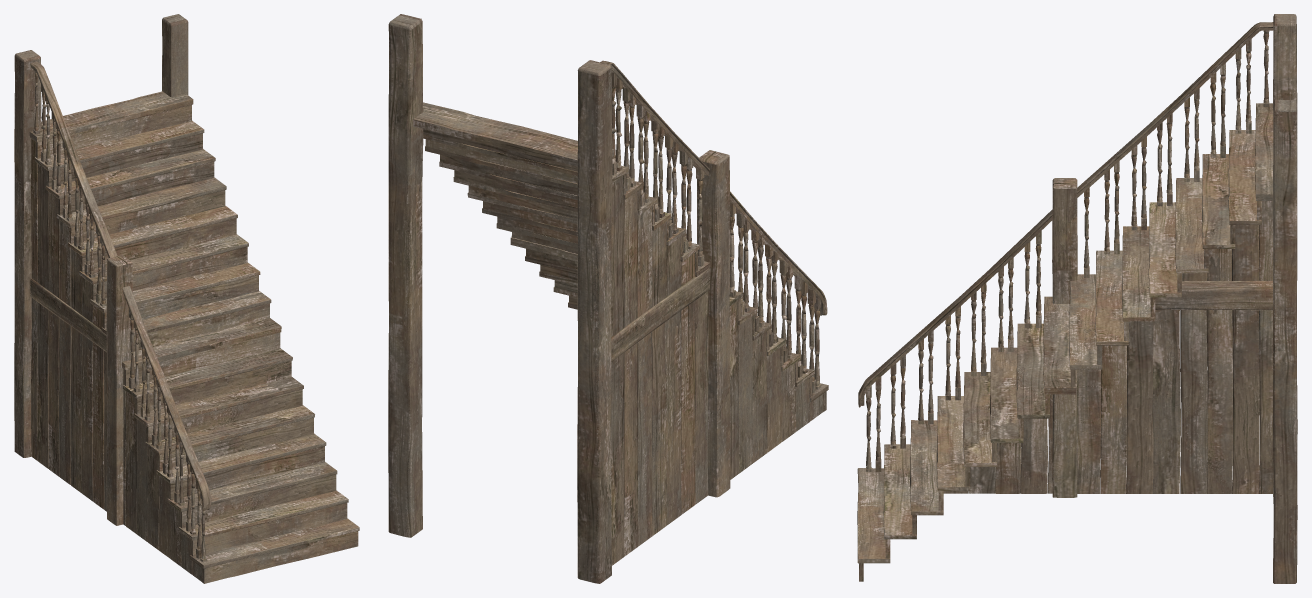
The model's file is SM_Staircase.fbx.
3 renders of one model, left to right at view 1: azimuth 30°, elevation 25°; view 2: azimuth 150°, elevation 25°; view 3: azimuth 270°, elevation 25°, orthographic. The views are drawn at different scales.
Visible parts, largest first — view 1: SM_Staircase_LOD0; view 2: SM_Staircase_LOD0; view 3: SM_Staircase_LOD0.
Part boxes in pixels (x1,y1,x2,y2): SM_Staircase_LOD0: (14, 14, 359, 583); SM_Staircase_LOD0: (388, 14, 828, 583); SM_Staircase_LOD0: (857, 14, 1297, 583).
Size of the model in its own units: 215 by 413 by 492.
1 material, 1 textured.
